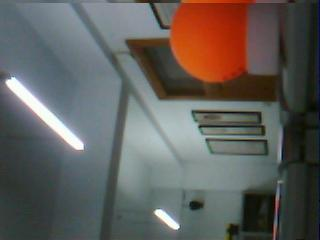oball: (169, 4, 249, 83)
